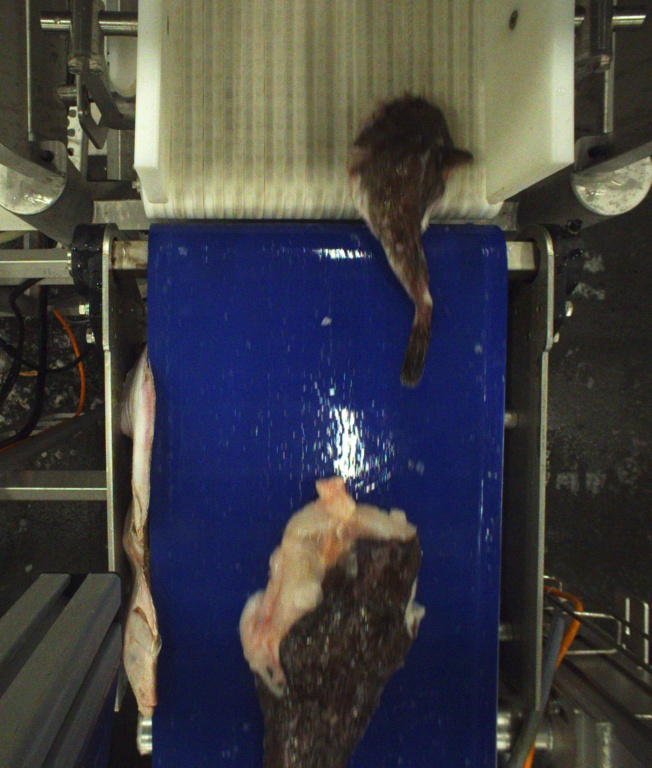ANF: (352, 94, 474, 391)
